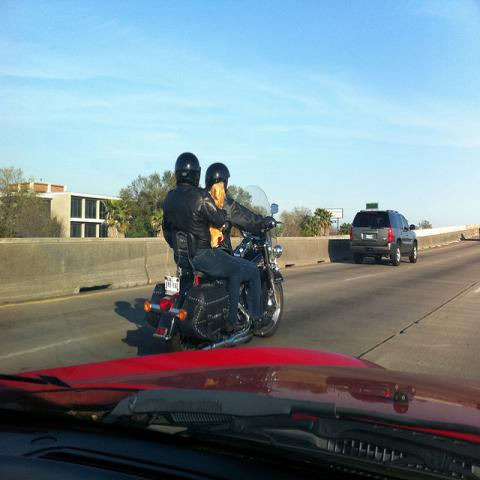car: (0, 345, 479, 473), (350, 210, 418, 266)
motorcycle: (151, 190, 287, 354)
